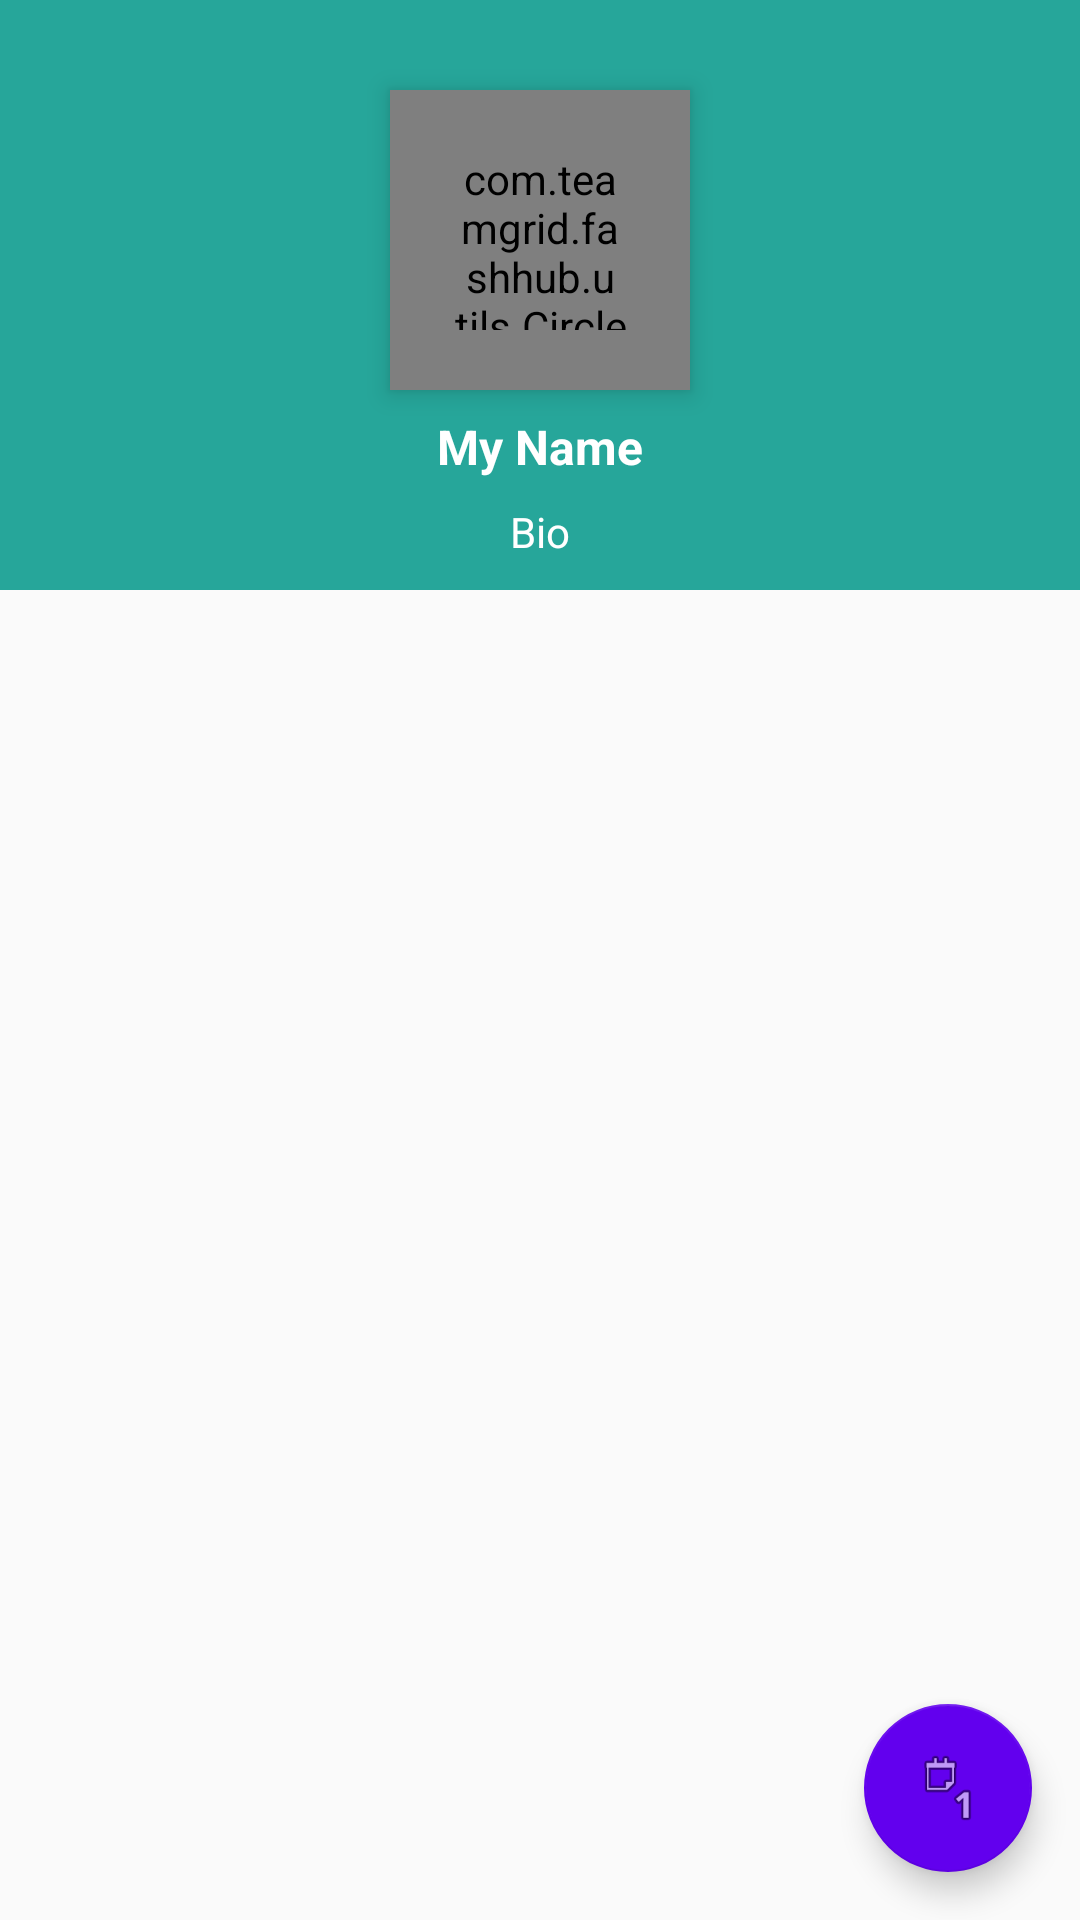

Screen size 1080w x 1920h. Icon name, then its center in pixels as [x,y]:
day: [948,1788]
